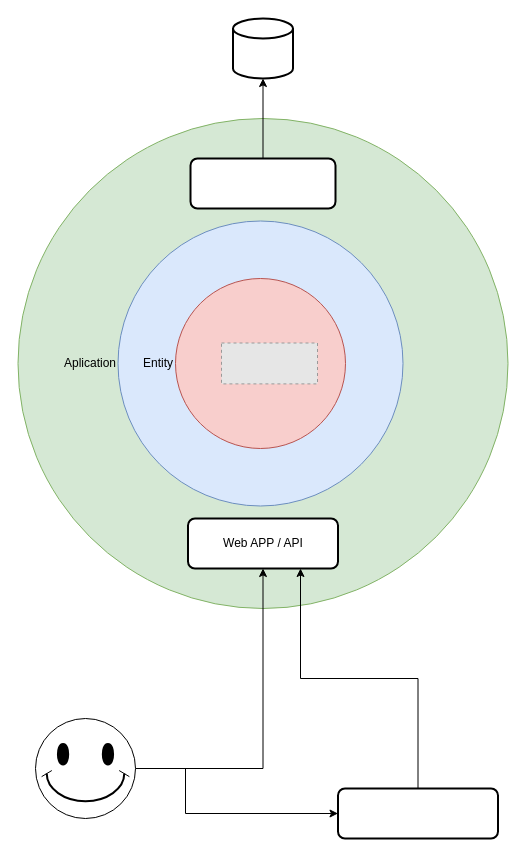
Some shapes in this 525 by 856 pixel diagram are drawn without their labels. Grey dashed boxes stand in for pictures. The centre of each missing label's shape, as x and y in pixels:
Entity Framework: (262,183)
Mobile APP: (417,813)
